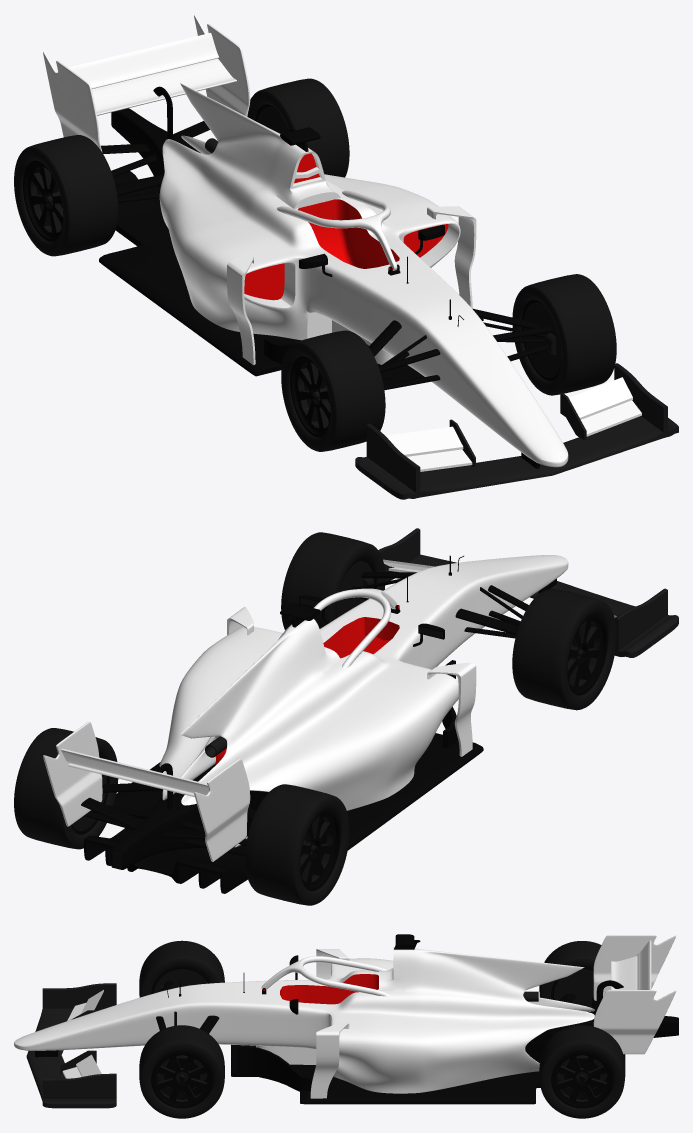
The model's file is Men_accessory_Haas_5000.fbx.
The picture shows the model from 3 angles, top to bottom: view 1: azimuth 30°, elevation 25°; view 2: azimuth 150°, elevation 25°; view 3: azimuth 270°, elevation 25°; orthographic projection. The views are drawn at different scales.
Parts seen in each view (by area): view 1: _gltfNode_0, _gltfNode_3, _gltfNode_13, _gltfNode_16, _gltfNode_4, _gltfNode_2, _gltfNode_10, _gltfNode_1, _gltfNode_14, _gltfNode_17; view 2: _gltfNode_0, _gltfNode_3, _gltfNode_16, _gltfNode_13, _gltfNode_4, _gltfNode_17, _gltfNode_14, _gltfNode_2, _gltfNode_10; view 3: _gltfNode_0, _gltfNode_3, _gltfNode_13, _gltfNode_4, _gltfNode_16, _gltfNode_10, _gltfNode_14, _gltfNode_17, _gltfNode_2, _gltfNode_9.
Part boxes in pixels (box(x1,y1,x2,y2)): _gltfNode_0: box(43, 14, 641, 471); _gltfNode_3: box(99, 86, 553, 468); _gltfNode_13: box(281, 274, 616, 451); _gltfNode_16: box(14, 78, 349, 256); _gltfNode_4: box(355, 363, 678, 499); _gltfNode_2: box(298, 199, 399, 268); _gltfNode_10: box(47, 107, 561, 401); _gltfNode_1: box(244, 153, 448, 300); _gltfNode_14: box(290, 299, 561, 437); _gltfNode_17: box(23, 104, 284, 241); _gltfNode_0: box(43, 555, 616, 861); _gltfNode_3: box(81, 555, 556, 893); _gltfNode_16: box(14, 728, 349, 905); _gltfNode_13: box(281, 532, 616, 710); _gltfNode_4: box(378, 528, 678, 657); _gltfNode_17: box(71, 754, 340, 890); _gltfNode_14: box(336, 558, 607, 695); _gltfNode_2: box(323, 617, 399, 658); _gltfNode_10: box(72, 561, 583, 855); _gltfNode_0: box(14, 935, 676, 1098); _gltfNode_3: box(35, 934, 678, 1104); _gltfNode_13: box(139, 940, 224, 1118); _gltfNode_4: box(26, 983, 116, 1108); _gltfNode_16: box(539, 941, 625, 1118); _gltfNode_10: box(153, 969, 607, 1089); _gltfNode_14: box(151, 967, 213, 1108); _gltfNode_17: box(551, 967, 613, 1108); _gltfNode_2: box(280, 974, 378, 1004); _gltfNode_9: box(164, 1058, 600, 1091).
Size of the model in its own units: 170 by 99.25 by 463.
